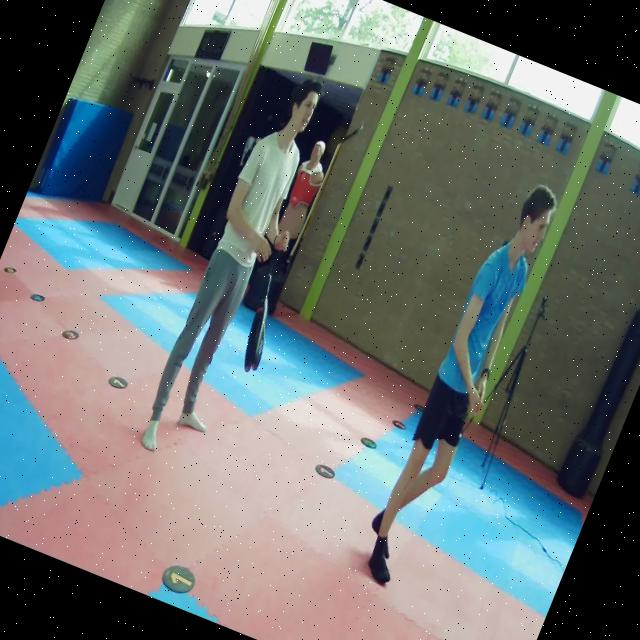paddle: (245, 273, 271, 371)
